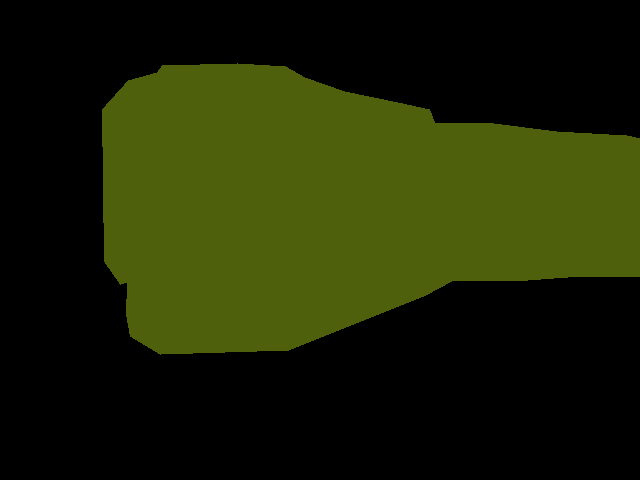Train: (102, 63, 640, 355)
